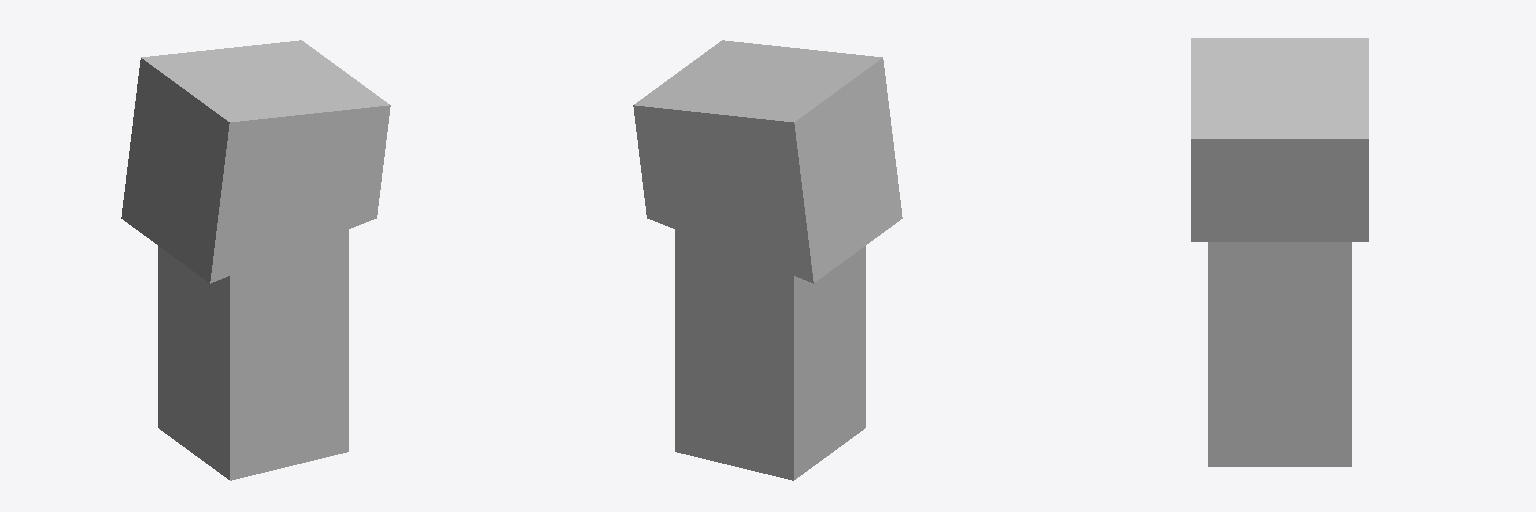
Rendered from float_L_arm.obj.
3 views of the same model, side by side, from view 1: azimuth 30°, elevation 25°; view 2: azimuth 150°, elevation 25°; view 3: azimuth 270°, elevation 25° (orthographic).
Visible parts, largest first — view 1: 立方体.002; view 2: 立方体.002; view 3: 立方体.002.
Boxes of the visible parts, box(x1,y1,x2,y2) form: 立方体.002: box(121, 40, 390, 480); 立方体.002: box(633, 40, 902, 480); 立方体.002: box(1191, 38, 1368, 466).
Bounding box in the file's own units: 0.7465 × 1.45 × 0.6368.